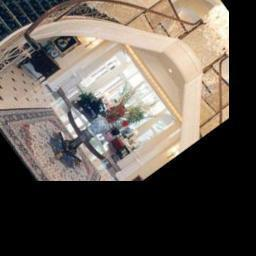Escaleras: (0, 0, 179, 142)
